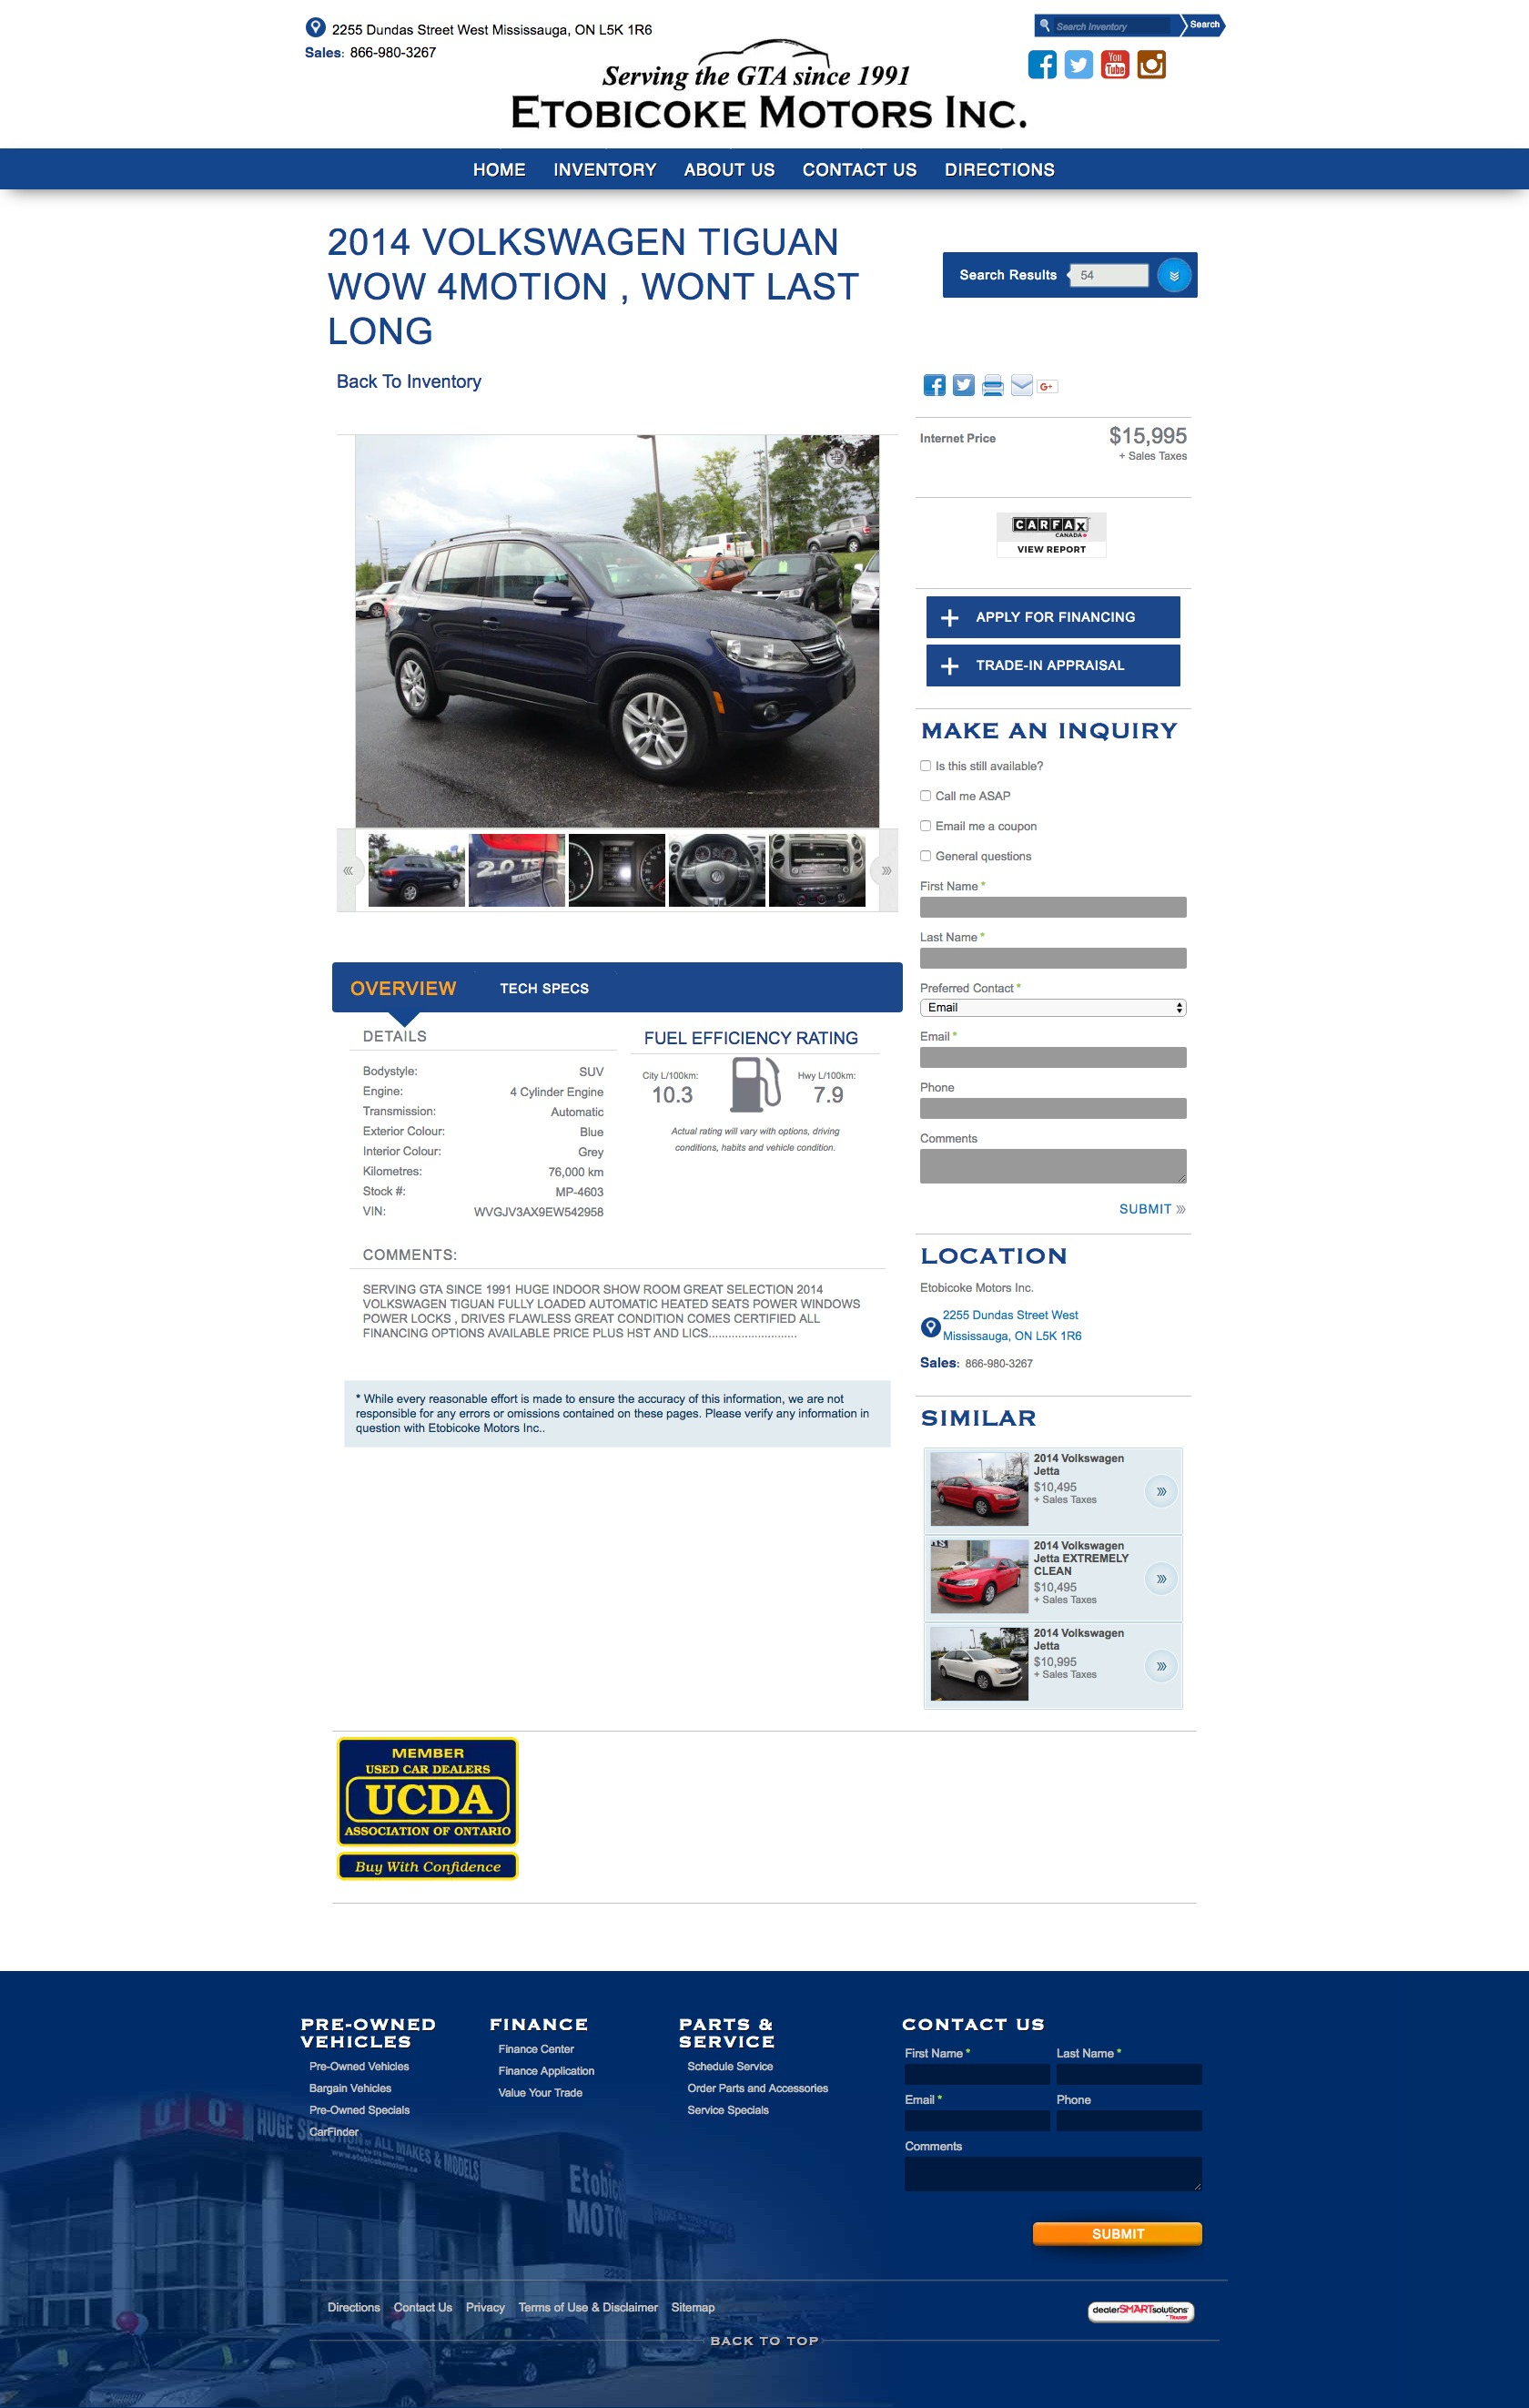car: (881, 867, 894, 878)
